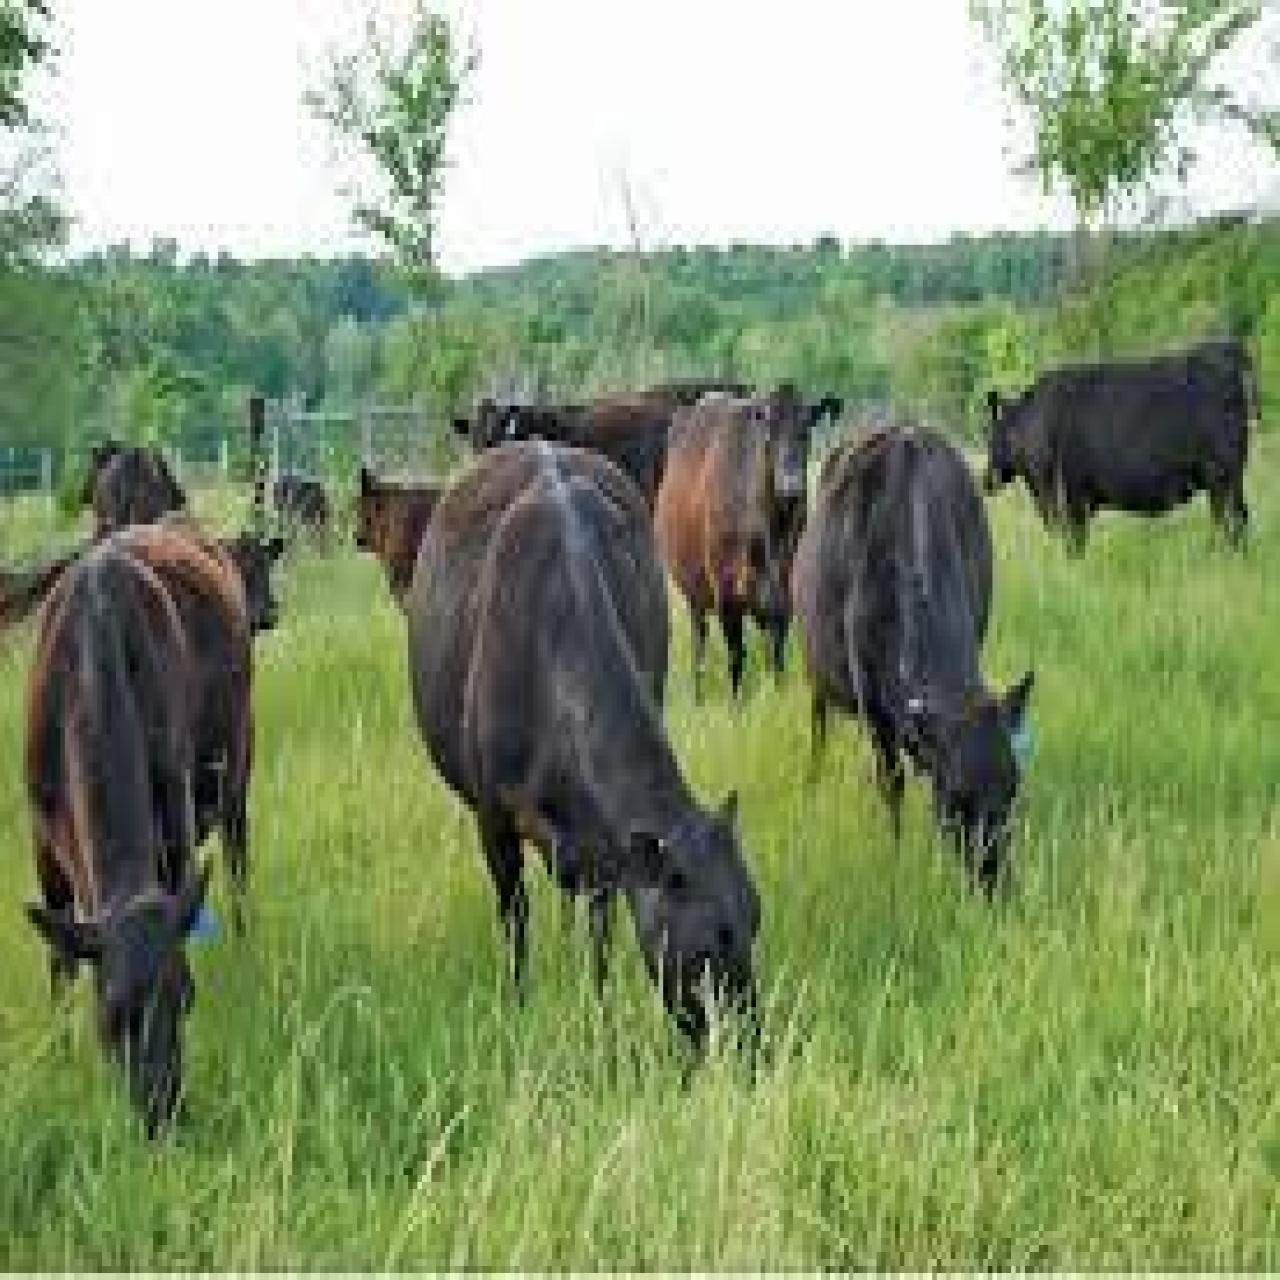cow: (401, 437, 772, 1074), (787, 416, 1036, 920), (19, 550, 223, 1158), (95, 529, 285, 899), (983, 335, 1266, 573), (659, 377, 844, 707), (452, 392, 680, 524), (353, 462, 455, 615), (79, 430, 190, 535)
